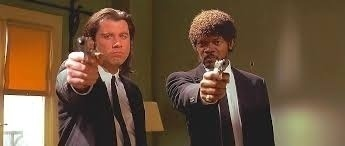pistol: (213, 56, 231, 83), (74, 36, 96, 56)
